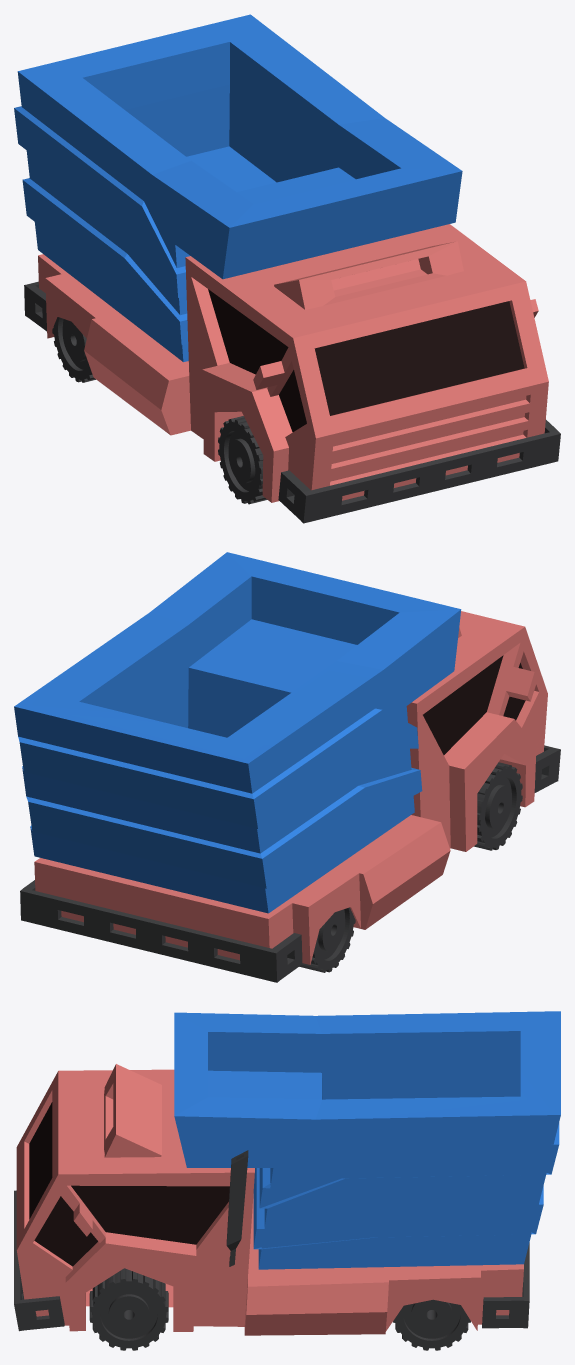
The model's file is toytruck.gltf.
The picture shows the model from 3 angles, top to bottom: view 1: azimuth 30°, elevation 25°; view 2: azimuth 150°, elevation 25°; view 3: azimuth 270°, elevation 25°; orthographic projection. The views are drawn at different scales.
Visible parts, largest first — view 1: Plano.003_Plano.004; view 2: Plano.003_Plano.004; view 3: Plano.003_Plano.004.
Boxes of the visible parts, bbox=[...] form: Plano.003_Plano.004: bbox=[14, 14, 560, 523]; Plano.003_Plano.004: bbox=[14, 552, 560, 982]; Plano.003_Plano.004: bbox=[14, 1011, 560, 1350].
Size of the model in its own units: 4.77 by 3.98 by 8.54.
